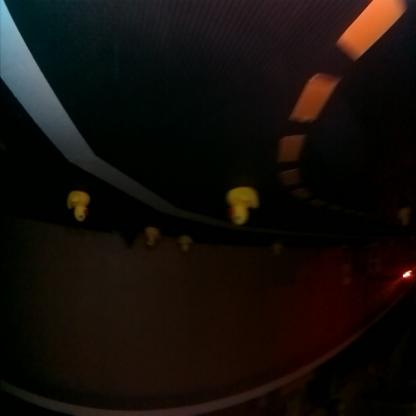Duckie: (229, 186, 259, 226), (68, 192, 90, 222), (146, 227, 160, 246), (400, 208, 412, 226), (180, 237, 192, 253), (274, 246, 282, 256)
